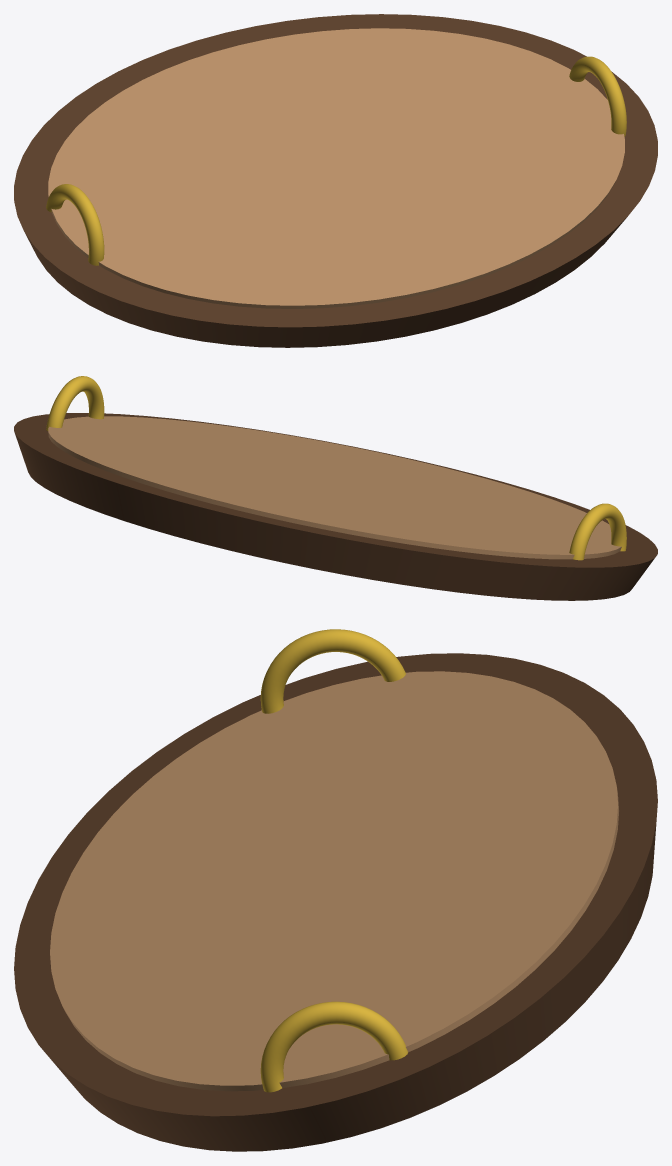
Rendered from wooden_tray.glb.
The picture shows the model from 3 angles, top to bottom: view 1: azimuth 30°, elevation 25°; view 2: azimuth 150°, elevation 25°; view 3: azimuth 270°, elevation 25°; orthographic projection. The views are drawn at different scales.
Size of the model in its own units: 2.87 by 0.6591 by 1.81.
